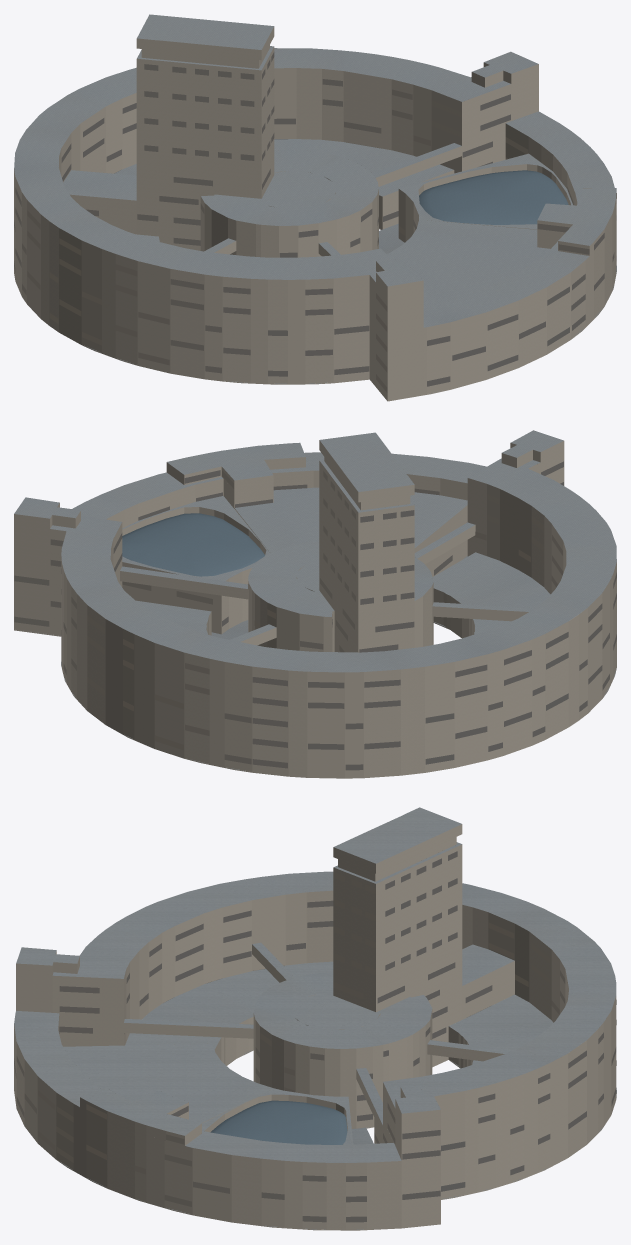
The model's file is maison-de-la-radio.glb.
3 views of the same model, one above another, from view 1: azimuth 30°, elevation 25°; view 2: azimuth 150°, elevation 25°; view 3: azimuth 270°, elevation 25° (orthographic).
Visible parts, largest first — view 1: stone, roof, window, glass; view 2: stone, roof, window, glass; view 3: stone, roof, window, glass.
Part boxes in pixels (x1,y1,x2,y2): stone: [14, 27, 616, 401]; roof: [14, 14, 616, 393]; window: [14, 52, 616, 392]; glass: [419, 170, 568, 224]; stone: [14, 440, 616, 778]; roof: [14, 430, 616, 771]; window: [14, 461, 616, 770]; glass: [122, 513, 264, 576]; stone: [14, 824, 616, 1230]; roof: [14, 807, 616, 1229]; window: [14, 851, 616, 1222]; glass: [210, 1100, 347, 1144].
Bounding box in the file's own units: 162 × 68 × 162.
Materials: 4 (4 with a texture image).
